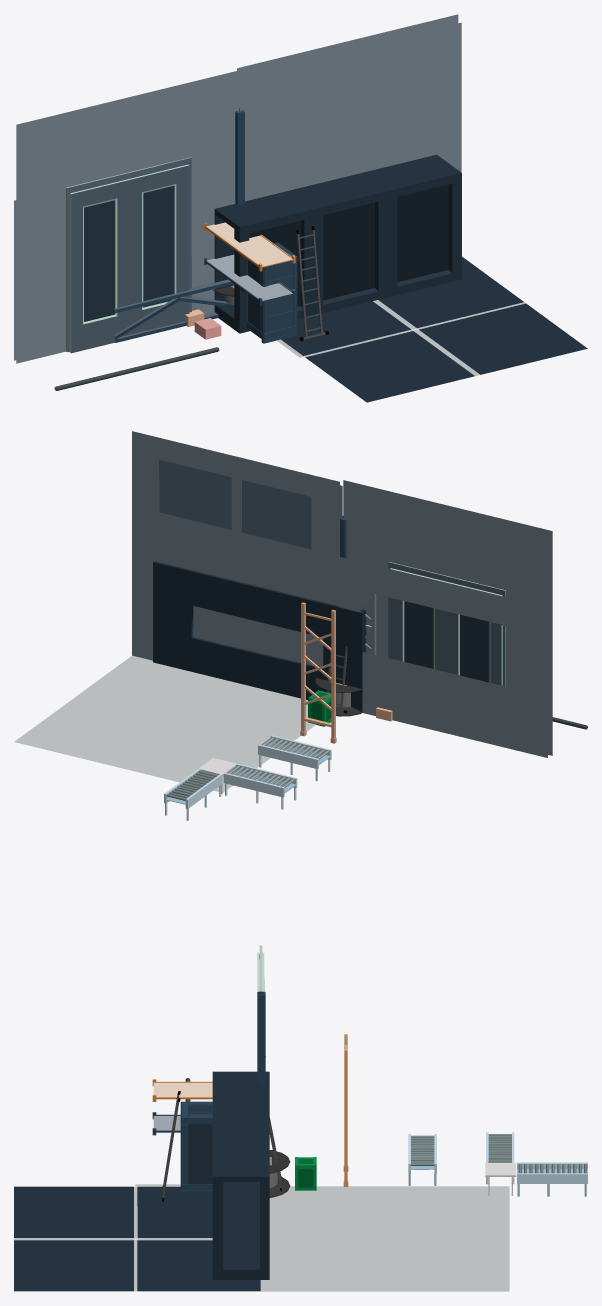
The picture shows the model from 3 angles, top to bottom: view 1: azimuth 30°, elevation 25°; view 2: azimuth 150°, elevation 25°; view 3: azimuth 270°, elevation 25°; orthographic projection. The views are drawn at different scales.
Parts seen in each view (by area): view 1: SM_DoorFrame_A1_200, SM_Wall_Outer_600, SM_Transporter_01, SM_Ground_1200, SM_Door_A1.001, SM_Door_A1, SM_Big_Box_02, SO_Wall_Window_14, SM_Beam_Ceiling_400, SM_Rack_100.001, SM_Rack_100, SM_Stairs_01 (+2 smaller); view 2: SO_Wall_Window_14, SM_Ground_400, SM_DoorFrame_A1_200, SM_Wall_Outer_Window_B_800, SM_Transporter_01, SM_Door_A1.001, SM_Door_A1, SM_Transporter_200.002, SM_Rack_01, SM_Transporter_200.001, SM_Reel_01, SM_Big_Box_01; view 3: SM_Ground_400, SM_Ground_1200, SM_Transporter_01, SM_Transporter_200.002, SM_Big_Box_02, SM_Rack_100.001, SM_Transporter_200.001, SM_Pole_01, SM_Big_Box_01, SM_Reel_01, SM_Rack_01.
Boxes of the visible parts, left/top/right/bottom form: SM_DoorFrame_A1_200: left=16, top=70, right=238, bottom=363; SM_Wall_Outer_600: left=239, top=22, right=461, bottom=201; SM_Transporter_01: left=214, top=154, right=461, bottom=333; SM_Ground_1200: left=281, top=257, right=587, bottom=402; SM_Door_A1.001: left=69, top=179, right=130, bottom=353; SM_Door_A1: left=130, top=164, right=189, bottom=334; SM_Big_Box_02: left=247, top=242, right=297, bottom=343; SO_Wall_Window_14: left=237, top=14, right=458, bottom=107; SM_Beam_Ceiling_400: left=114, top=279, right=233, bottom=342; SM_Rack_100.001: left=204, top=222, right=295, bottom=271; SM_Rack_100: left=204, top=254, right=295, bottom=305; SM_Stairs_01: left=296, top=226, right=328, bottom=340; SO_Wall_Window_14: left=132, top=431, right=339, bottom=666; SM_Ground_400: left=14, top=655, right=316, bottom=792; SM_DoorFrame_A1_200: left=343, top=480, right=552, bottom=755; SM_Wall_Outer_Window_B_800: left=340, top=557, right=547, bottom=757; SM_Transporter_01: left=153, top=561, right=366, bottom=712; SM_Door_A1.001: left=445, top=582, right=502, bottom=685; SM_Door_A1: left=390, top=568, right=446, bottom=671; SM_Transporter_200.002: left=164, top=758, right=297, bottom=820; SM_Rack_01: left=300, top=602, right=336, bottom=743; SM_Transporter_200.001: left=258, top=735, right=331, bottom=781; SM_Reel_01: left=315, top=678, right=361, bottom=716; SM_Big_Box_01: left=308, top=690, right=331, bottom=726; SM_Ground_400: left=260, top=1186, right=509, bottom=1291; SM_Ground_1200: left=14, top=1186, right=260, bottom=1291; SM_Transporter_01: left=212, top=1071, right=269, bottom=1279; SM_Transporter_200.002: left=485, top=1132, right=587, bottom=1196; SM_Big_Box_02: left=180, top=1101, right=212, bottom=1194; SM_Rack_100.001: left=152, top=1079, right=212, bottom=1101; SM_Transporter_200.001: left=408, top=1134, right=436, bottom=1185; SM_Pole_01: left=257, top=991, right=265, bottom=1084; SM_Big_Box_01: left=295, top=1157, right=316, bottom=1190; SM_Reel_01: left=256, top=1150, right=290, bottom=1197; SM_Rack_01: left=343, top=1034, right=348, bottom=1186.
Size of the model in its own units: 1402 by 722 by 1614.
